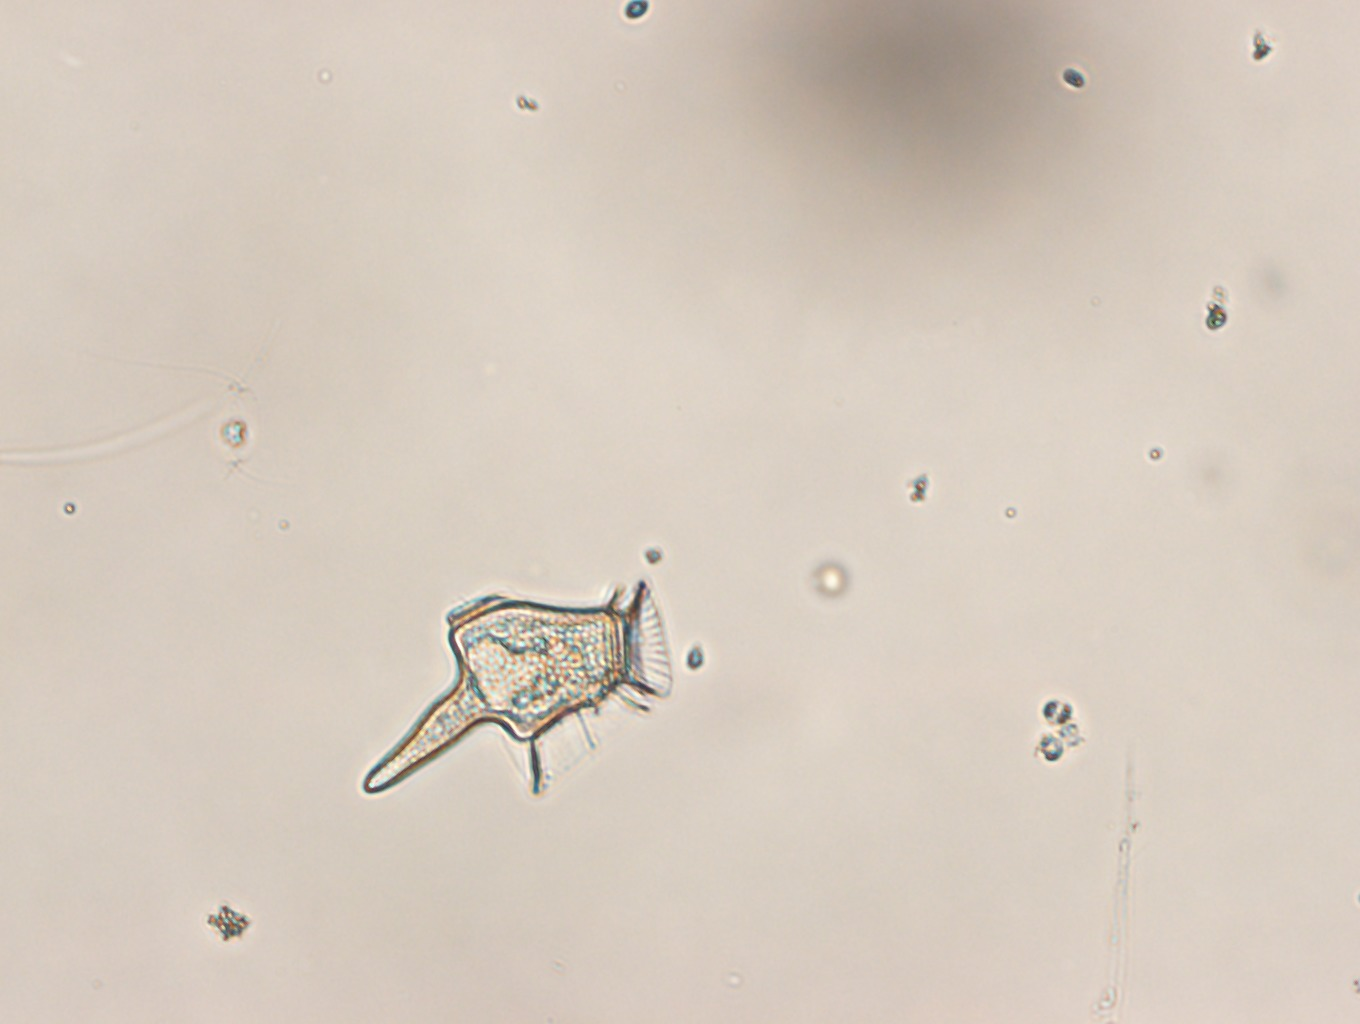dinophysis caudata: (359, 577, 675, 794)
